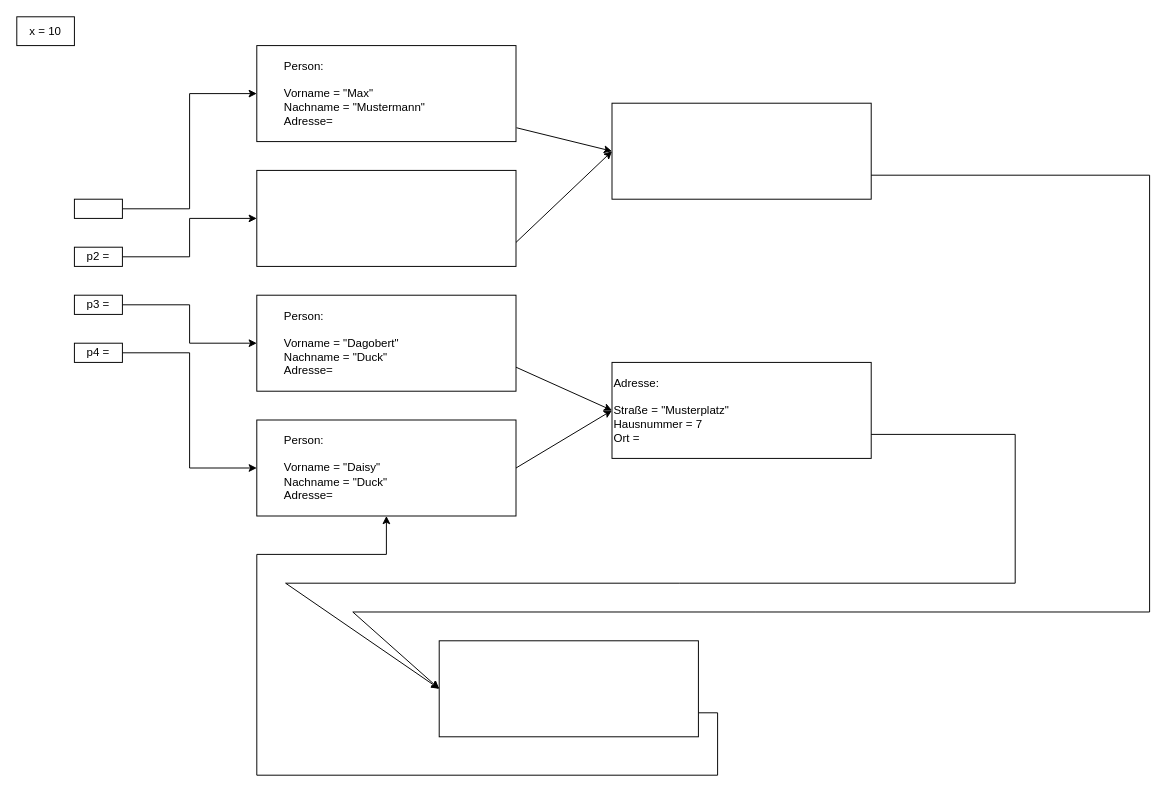
This 1174x800 diagram has some shape labels left out. The shapes that lost their labels are listed below. From the top down, each one's box as (x1, y1, x2, y2) in pixels, then its label:
(611, 102, 871, 199): Adresse: Straße = "Musterstraße" Hausnummer = 4 Ort =
(73, 198, 122, 218): p1 =
(256, 169, 516, 266): Person: Vorname = "Susi" Nachname = "Beispielfrau" Adresse=
(438, 640, 698, 737): Ort: Name = "Musterstadt" Postleitzahl = 1234 Bürgermeister =
